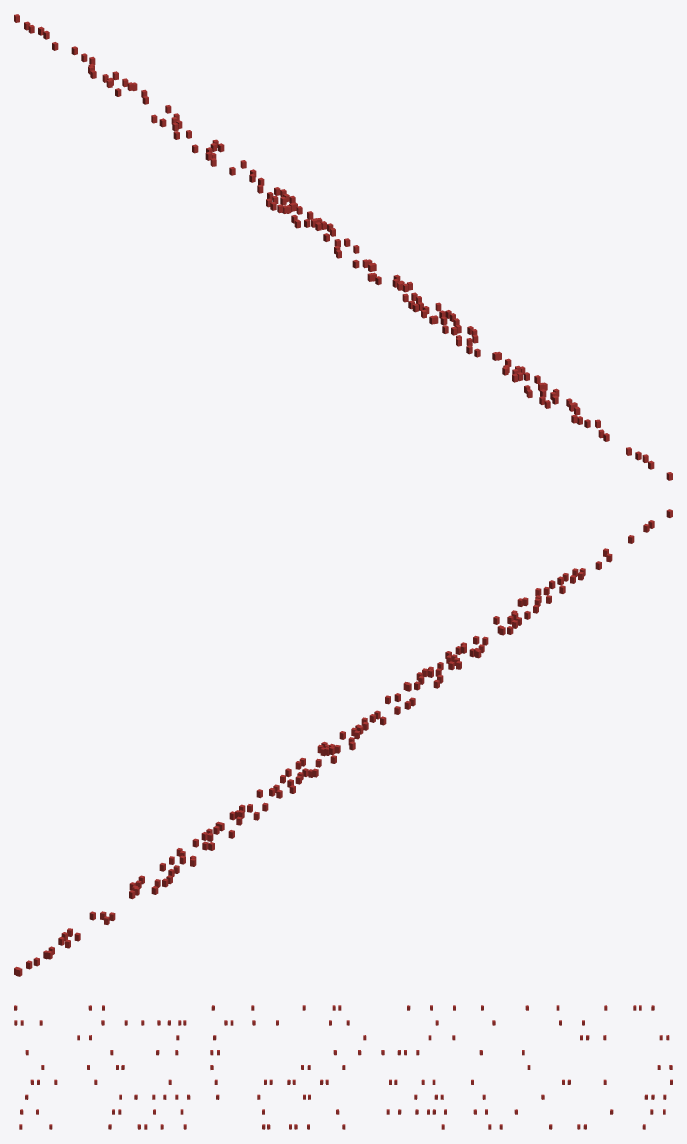
The model's file is CrowdE_CrowdRed.fbx.
3 views of the same model, one above another, from view 1: azimuth 30°, elevation 25°; view 2: azimuth 150°, elevation 25°; view 3: azimuth 270°, elevation 25° (orthographic). The views are drawn at different scales.
Parts seen in each view (by area): view 1: FanE2.001; view 2: FanE2.001; view 3: FanE2.001.
Boxes of the visible parts, x1,y1,x2,y2 form: FanE2.001: [14, 14, 672, 480]; FanE2.001: [14, 509, 672, 976]; FanE2.001: [14, 1005, 672, 1129].
Size of the model in its own units: 4127 by 3370 by 25453.
